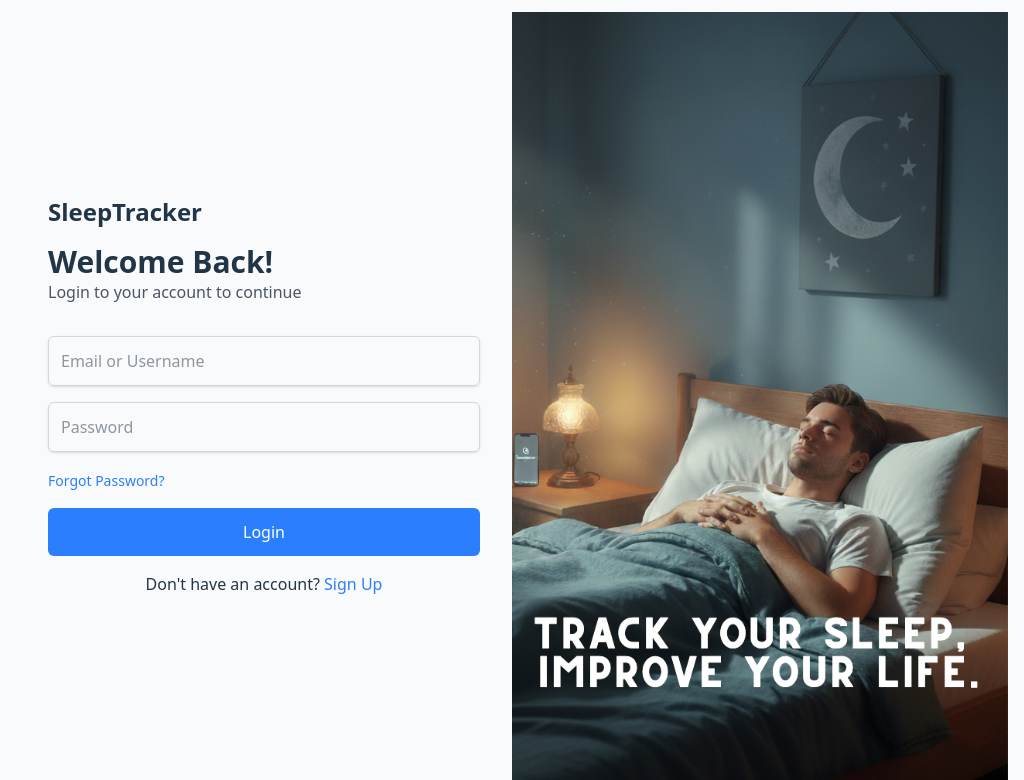
Test: App › should show login/register forms, allow registration and login, then show the tracker
Click the button "Sign Up".
click(353, 584)  # box [324,572,382,596]
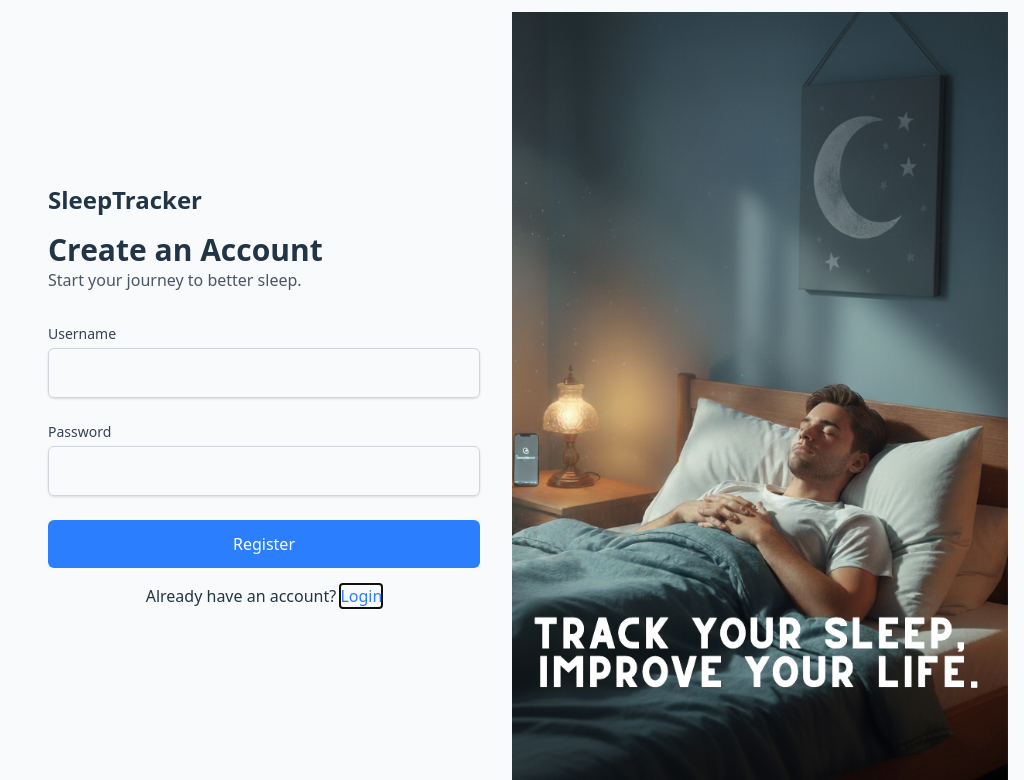
Type "newuser" into the field labelled "Username".
click(264, 373); type("newuser")  # box [48,348,480,398]
Type "password123" into the password field labelled "Password".
click(264, 471); type("password123")  # box [48,446,480,496]
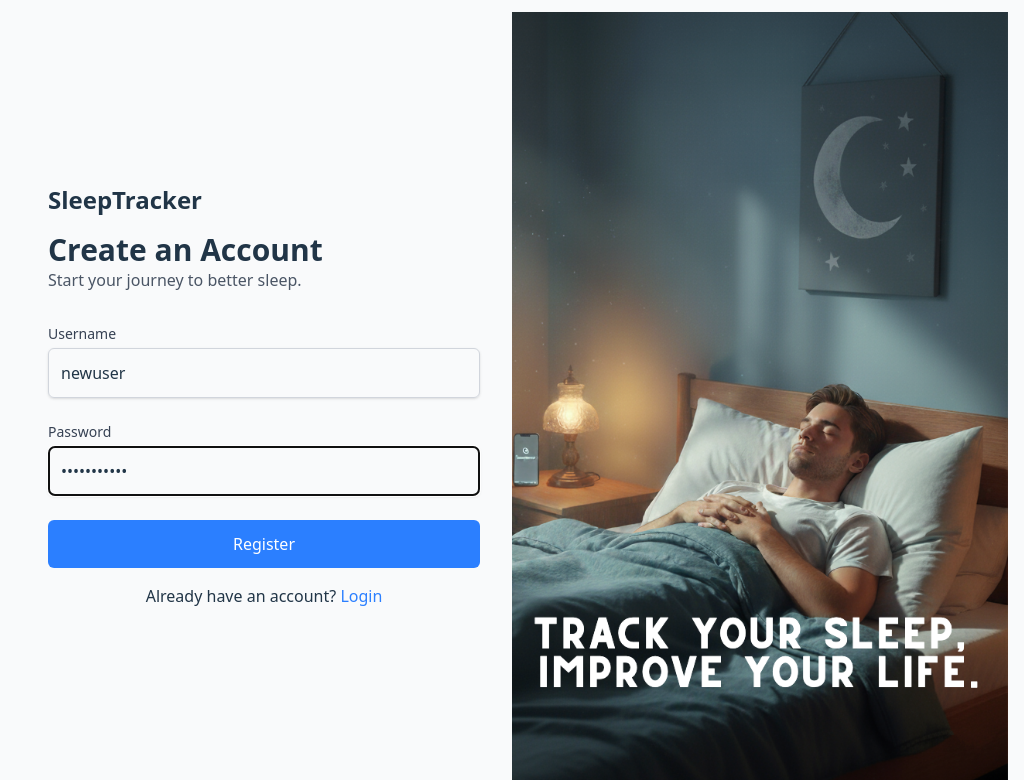
Click the button "Register".
click(264, 544)  # box [48,520,480,568]
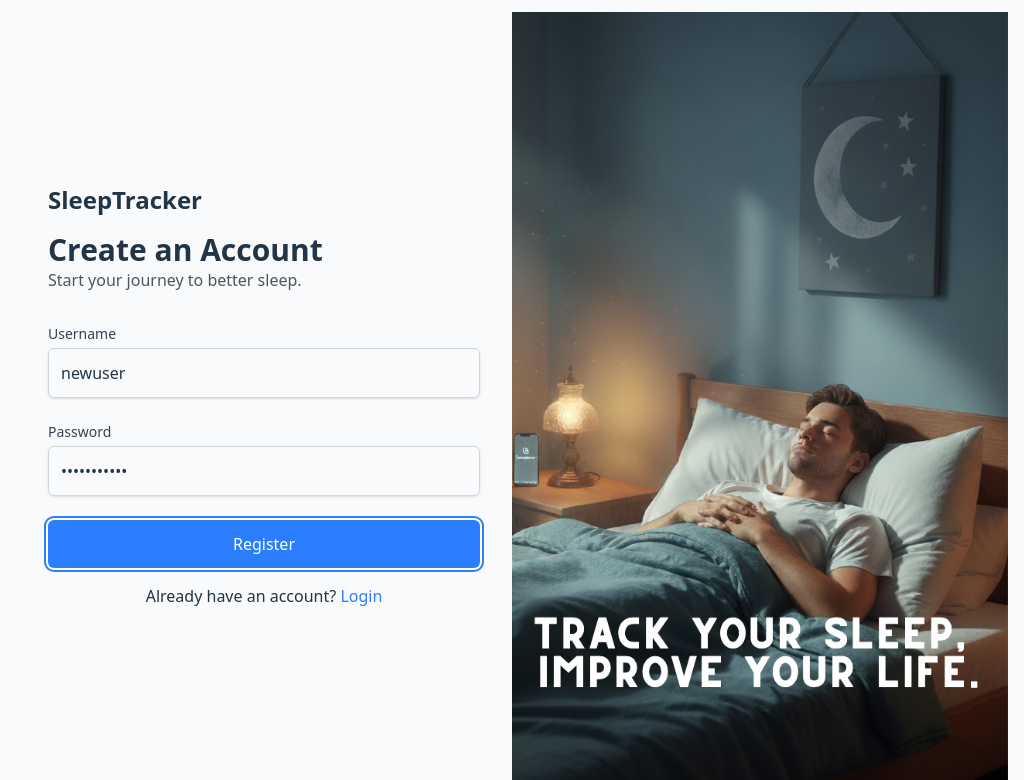
Click the button "Login".
click(361, 596)  # box [340,584,382,608]
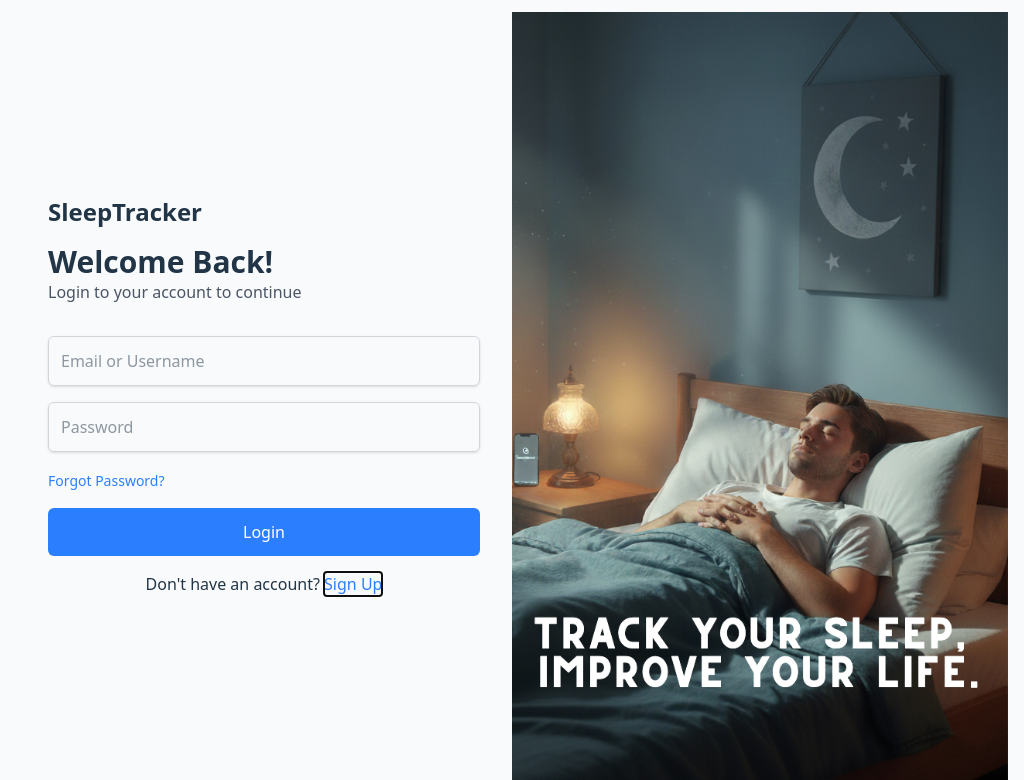
Type "newuser" into the field with placeholder "Email or Username".
click(264, 361); type("newuser")  # box [48,336,480,386]
Type "password123" into the password field with placeholder "Password".
click(264, 427); type("password123")  # box [48,402,480,452]
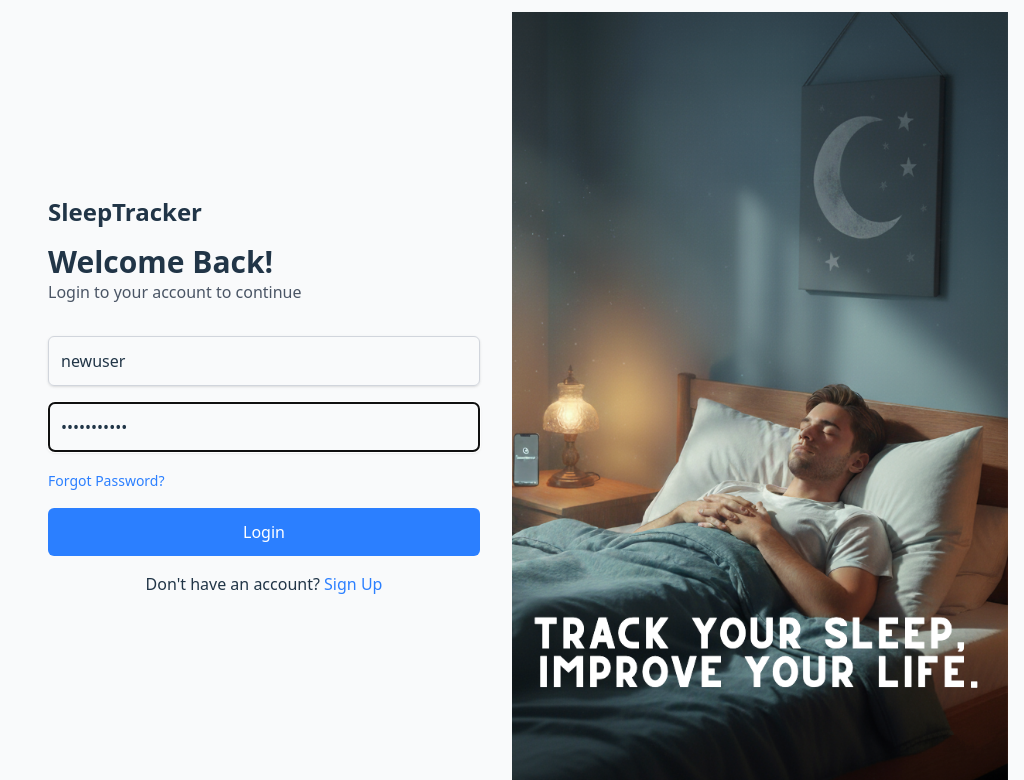
Click the button "Login".
click(264, 532)  # box [48,508,480,556]
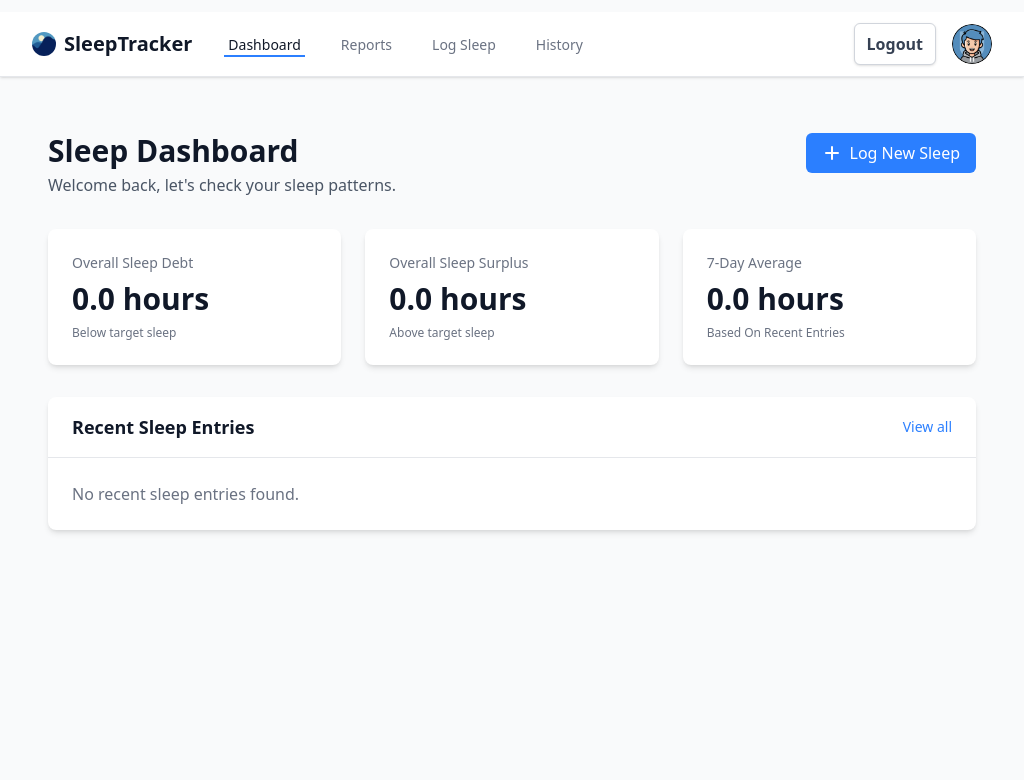
Expected: the text "Login" is gone
Expected: the heading "Sleep Dashboard" is shown, [48,130,299,171]
